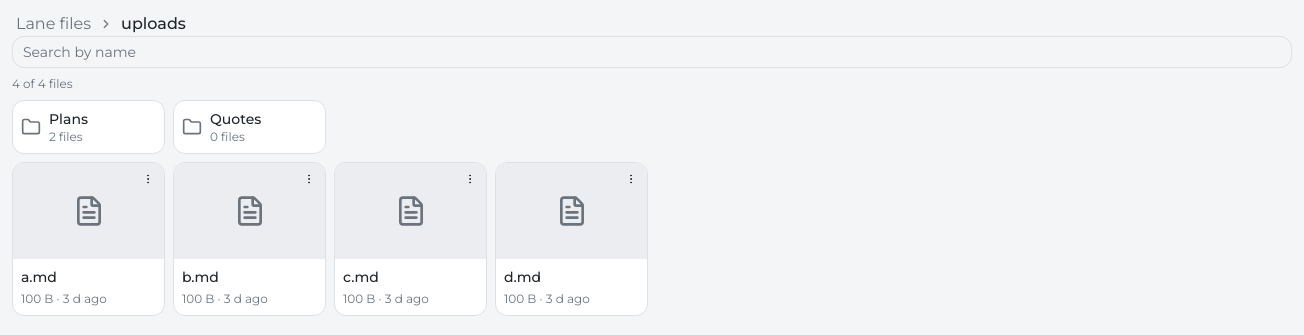
Test case: selecting › a click selects one tile, Cmd and Ctrl toggle, Shift takes the range
Click the button with test id "tile-main" showing "a.md 100 B · 3 d ago" at (88, 239), box [13,163,164,315]
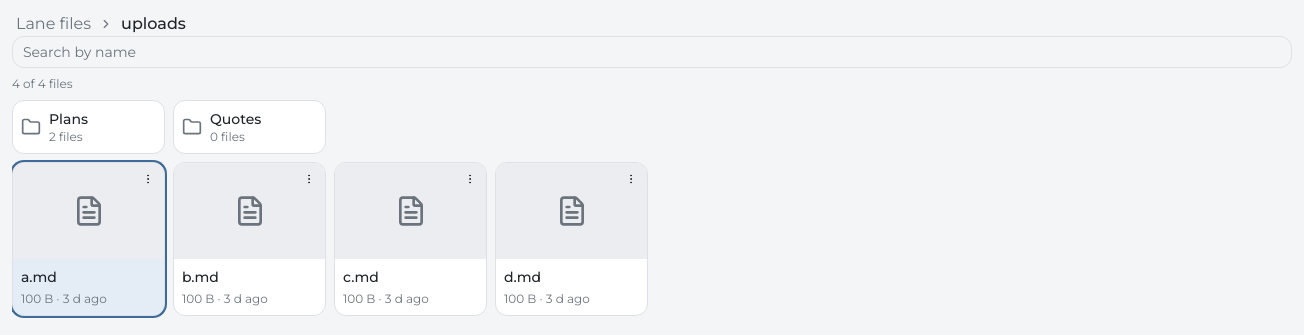
Click the button with test id "tile-main" showing "c.md 100 B · 3 d ago" at (410, 239), box [335,163,486,315]
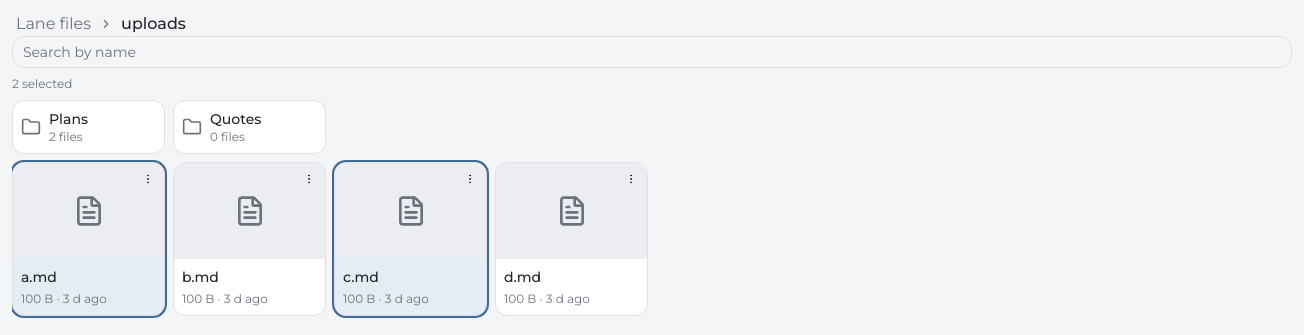
Click the button with test id "tile-main" showing "a.md 100 B · 3 d ago" at (88, 239), box [13,163,164,315]
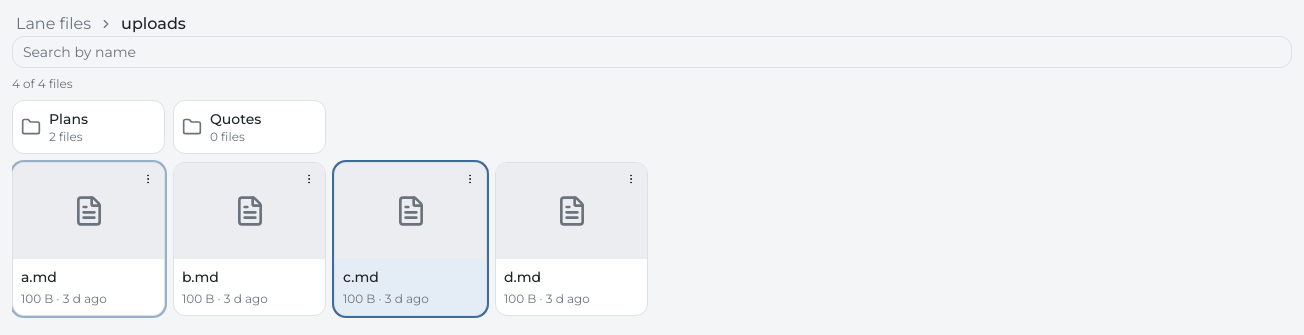
Click the button with test id "tile-main" showing "b.md 100 B · 3 d ago" at (250, 239), box [174,163,325,315]
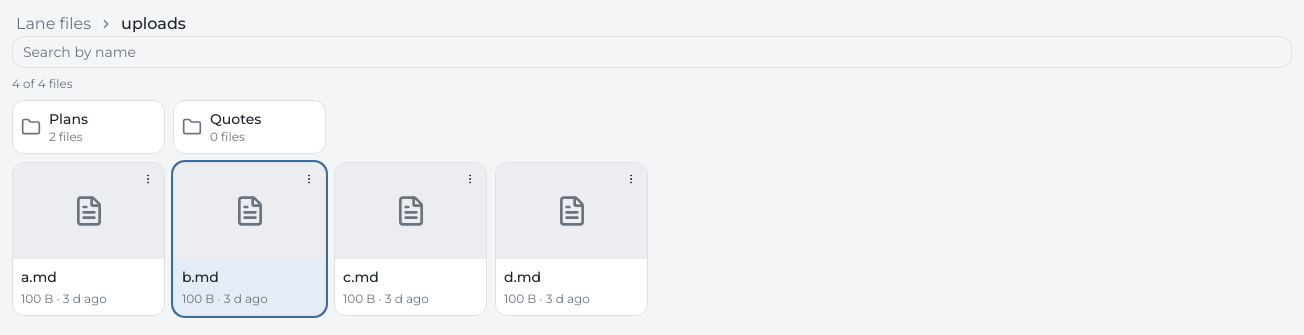
Click the button with test id "tile-main" showing "d.md 100 B · 3 d ago" at (572, 239), box [496,163,647,315]
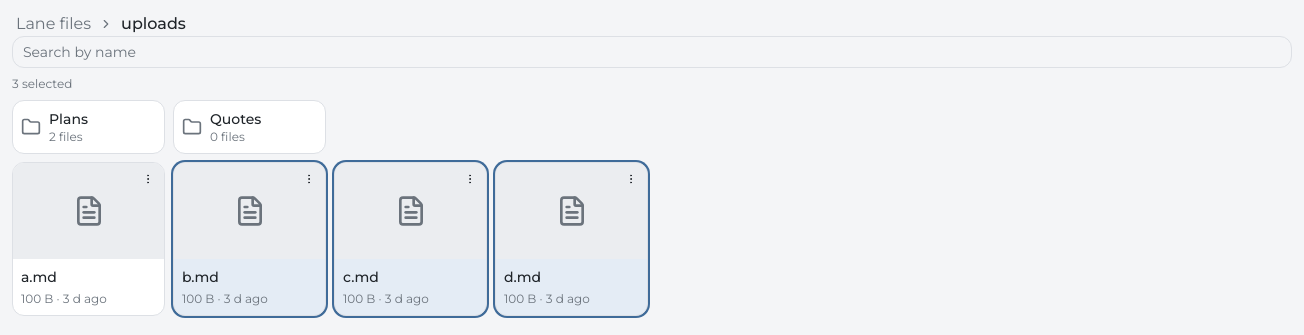
Expected: the message with test id "file-count" reads "3 selected", [12,76,72,91]
